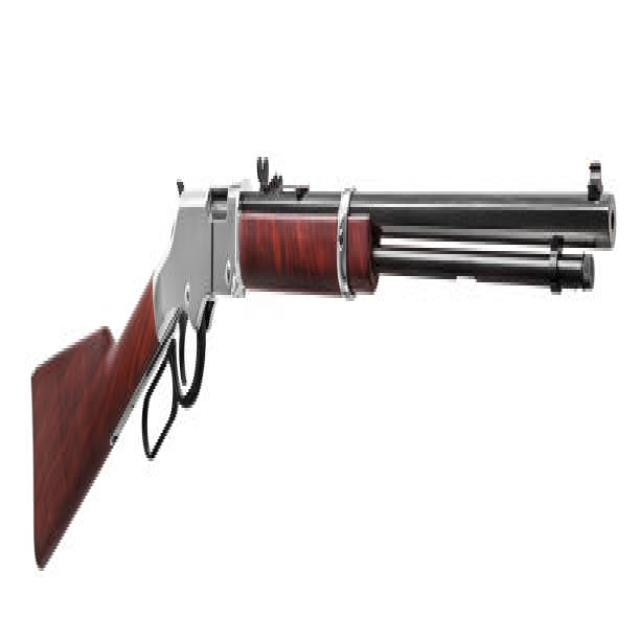rifle: (22, 121, 621, 593)
